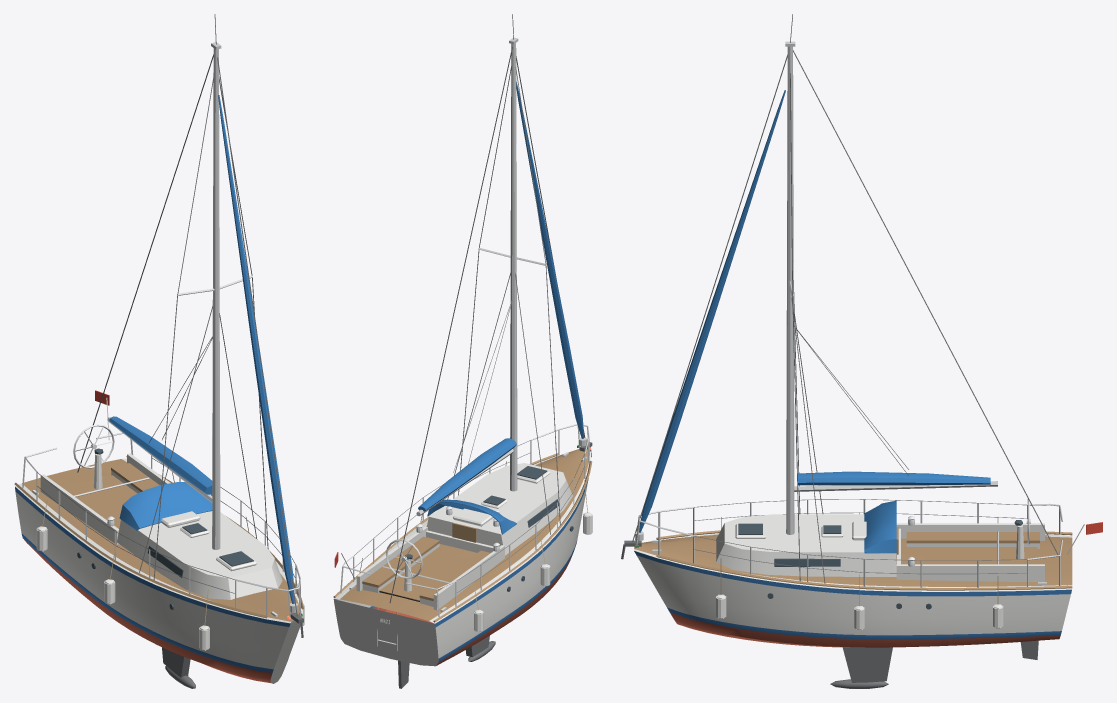
File: yacht.glb
3 views of the same model, side by side, from view 1: azimuth 30°, elevation 25°; view 2: azimuth 150°, elevation 25°; view 3: azimuth 270°, elevation 25° (orthographic). The views are drawn at different scales.
Visible parts, largest first — view 1: yacht_body; view 2: yacht_body; view 3: yacht_body.
Boxes of the visible parts, <box> form: yacht_body: <box>14,14,304,688</box>; yacht_body: <box>333,14,592,688</box>; yacht_body: <box>621,14,1102,688</box>.
Size of what is drawn, in the model's own units: 3.45 by 15.05 by 9.75.
